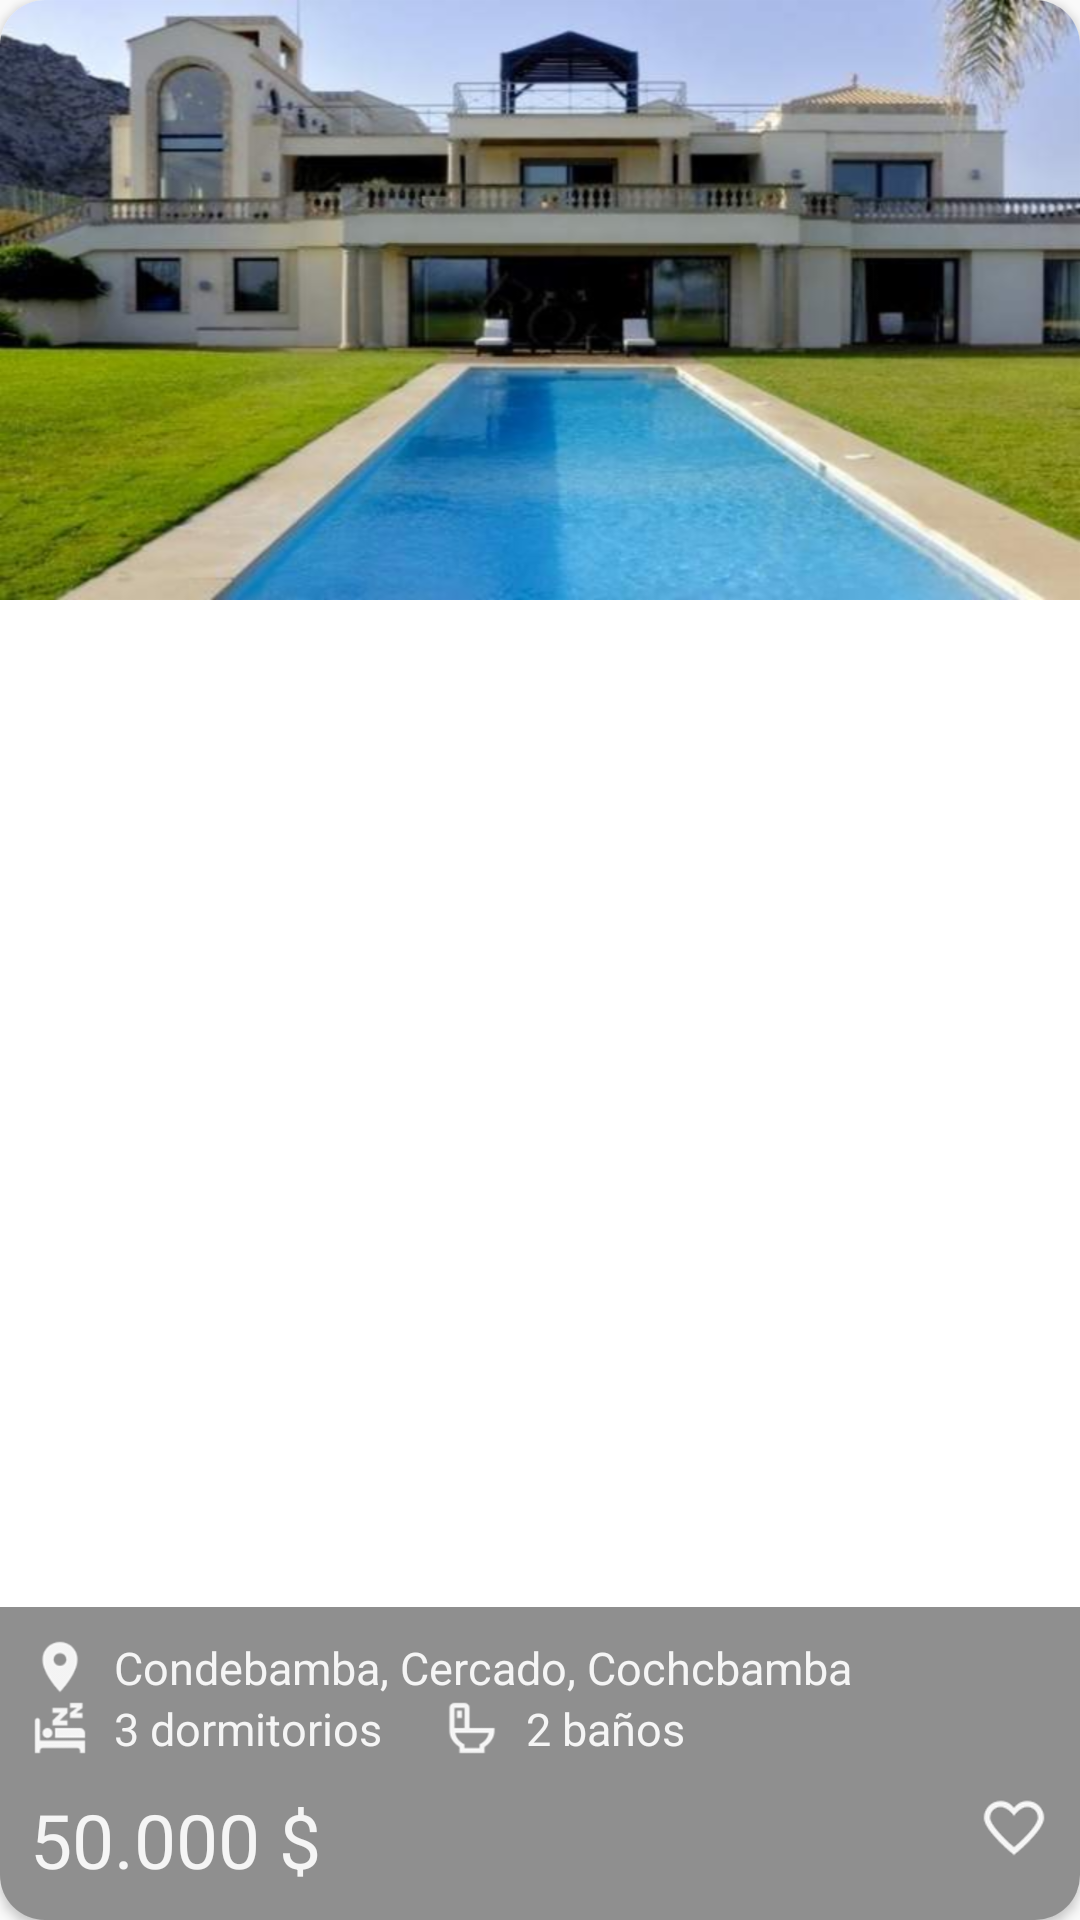

Where icons sit on this 1080×1920 app screen, as (x1, y1, x2, y2):
bathroom: (449, 1703, 495, 1753)
bedroom: (35, 1703, 85, 1753)
checkbox heart: (984, 1800, 1044, 1855)
marker: (42, 1642, 78, 1692)
